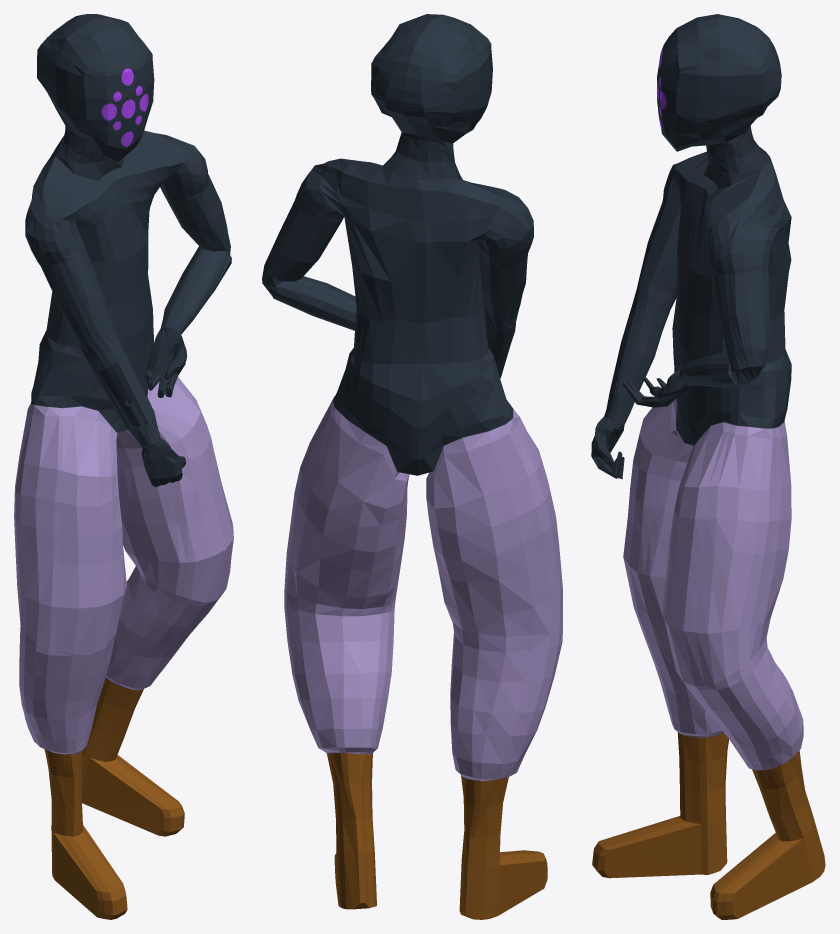
Rendered from Oracle_WL_000003.obj.
The picture shows the model from 3 angles, left to right: view 1: azimuth 30°, elevation 25°; view 2: azimuth 150°, elevation 25°; view 3: azimuth 270°, elevation 25°; orthographic projection. The views are drawn at different scales.
Visible parts, largest first — view 1: Cube; view 2: Cube; view 3: Cube.
Part boxes in pixels (left/top/right/bottom): Cube: left=14, top=14, right=233, bottom=919; Cube: left=262, top=14, right=562, bottom=919; Cube: left=591, top=14, right=825, bottom=919.
Size of the model in its own units: 1.17 by 3.93 by 0.9537.
